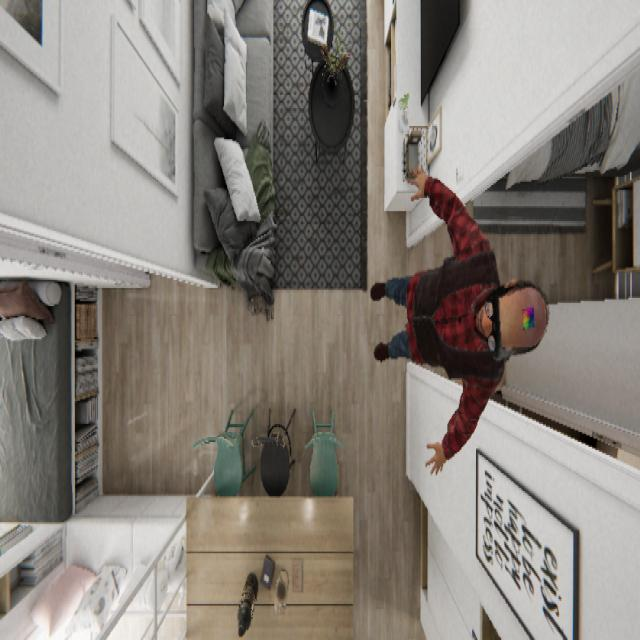Colored-Marker: (520, 301, 535, 331)
Human: (369, 162, 550, 475)
